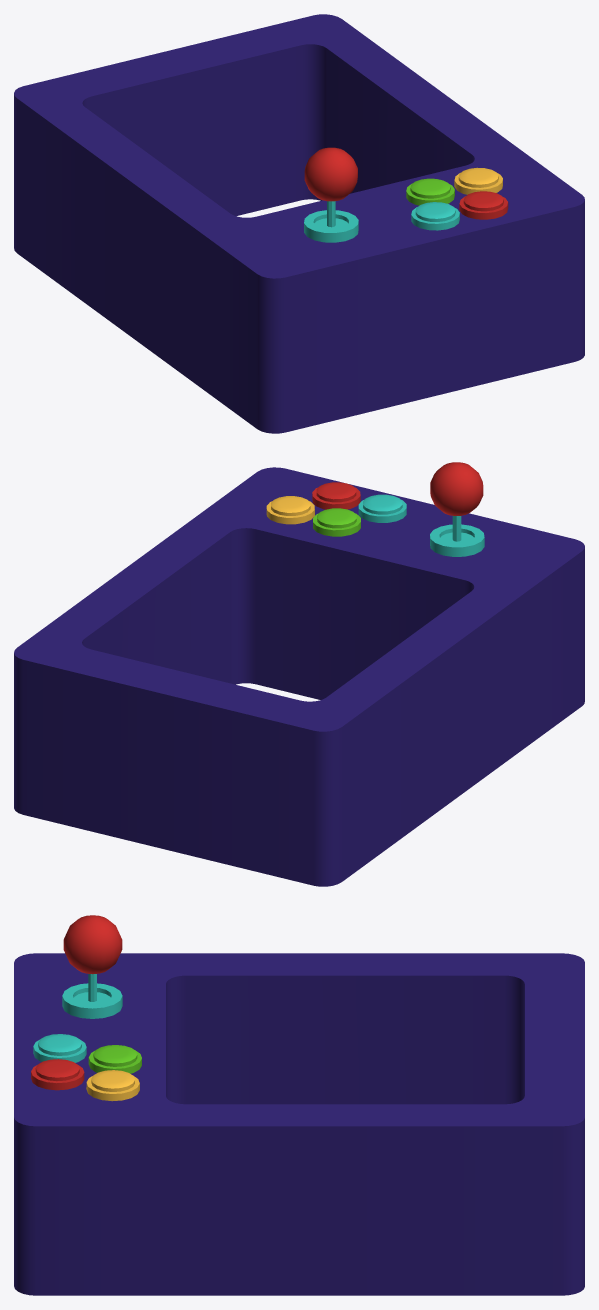
Rendered from Gameboy_l 1.fbx.
The picture shows the model from 3 angles, top to bottom: view 1: azimuth 30°, elevation 25°; view 2: azimuth 150°, elevation 25°; view 3: azimuth 270°, elevation 25°; orthographic projection. The views are drawn at different scales.
Parts seen in each view (by area): view 1: Cube.015; view 2: Cube.015; view 3: Cube.015.
Boxes of the visible parts, x1,y1,x2,y2 form: Cube.015: [14, 14, 584, 433]; Cube.015: [14, 462, 584, 886]; Cube.015: [14, 915, 584, 1295].
Bounding box in the file's own units: 404 × 563 × 281.
